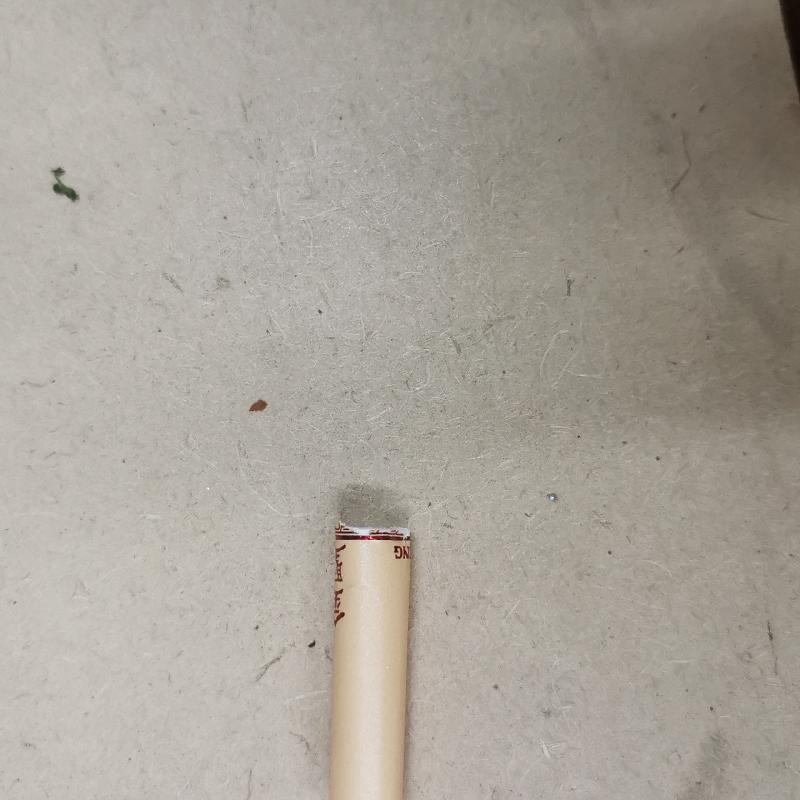cigarette: (319, 517, 425, 799)
